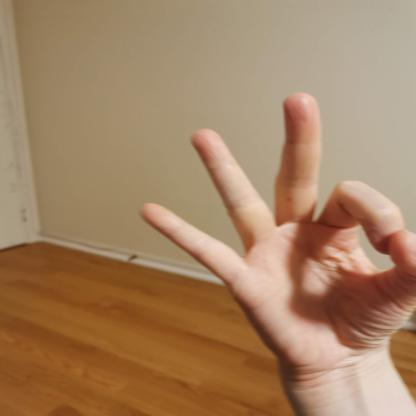nine: (133, 91, 415, 378)
